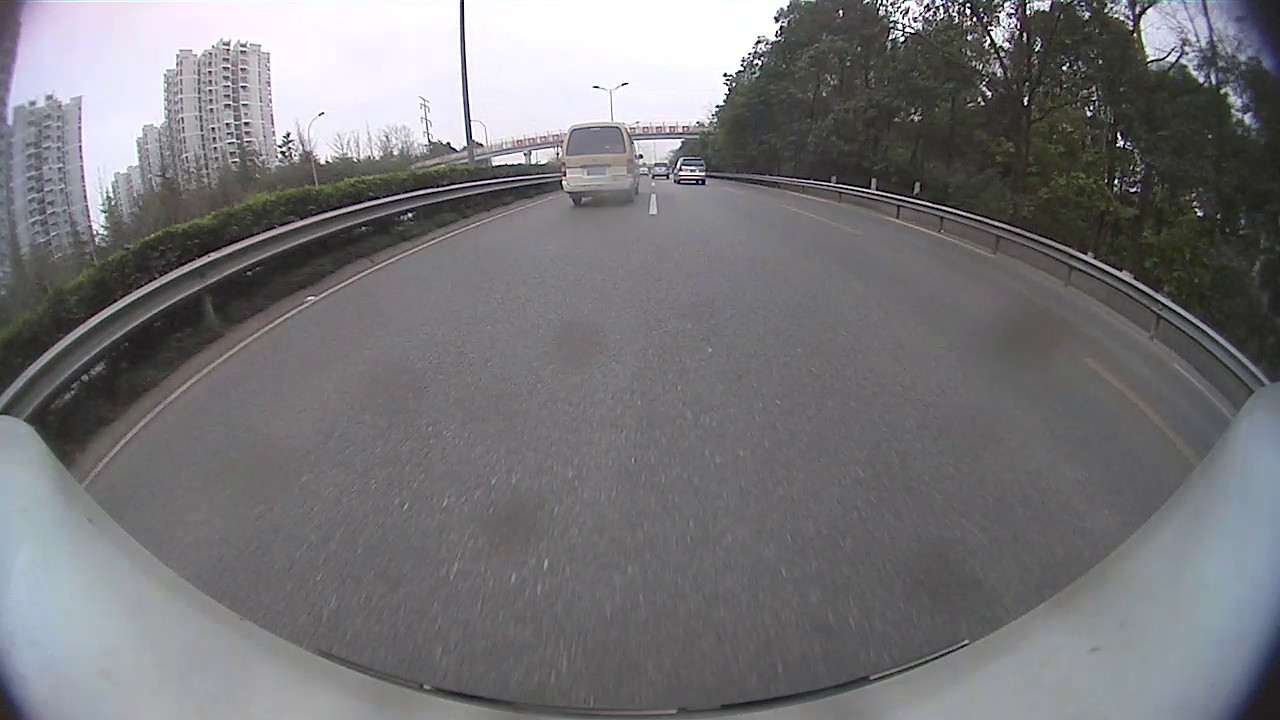car: (561, 120, 643, 206), (673, 155, 708, 184)
